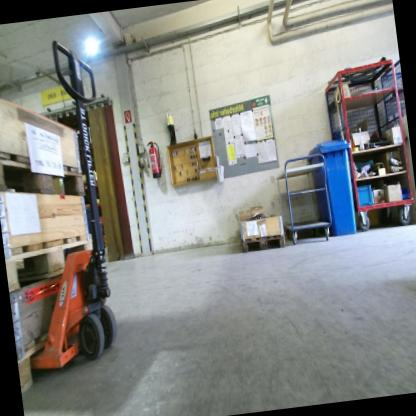pallet: (13, 312, 104, 395), (2, 224, 98, 294), (0, 136, 87, 210), (240, 231, 287, 254)
pallet_truck: (0, 27, 135, 385)
